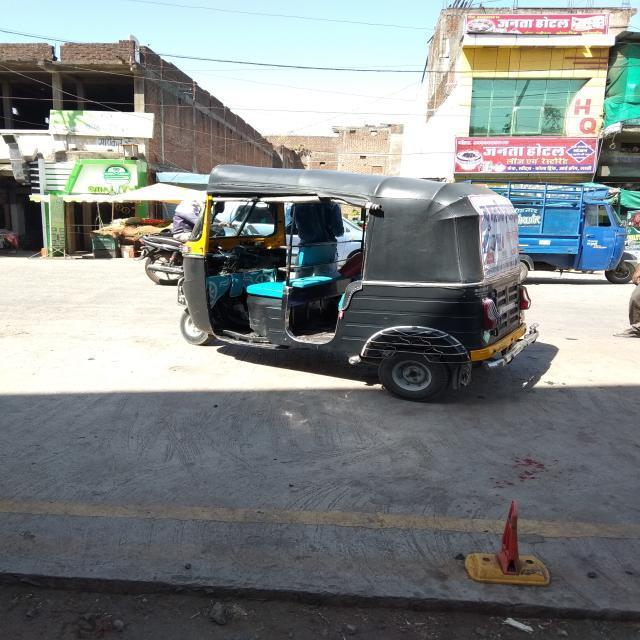auto_back: (167, 153, 536, 406)
